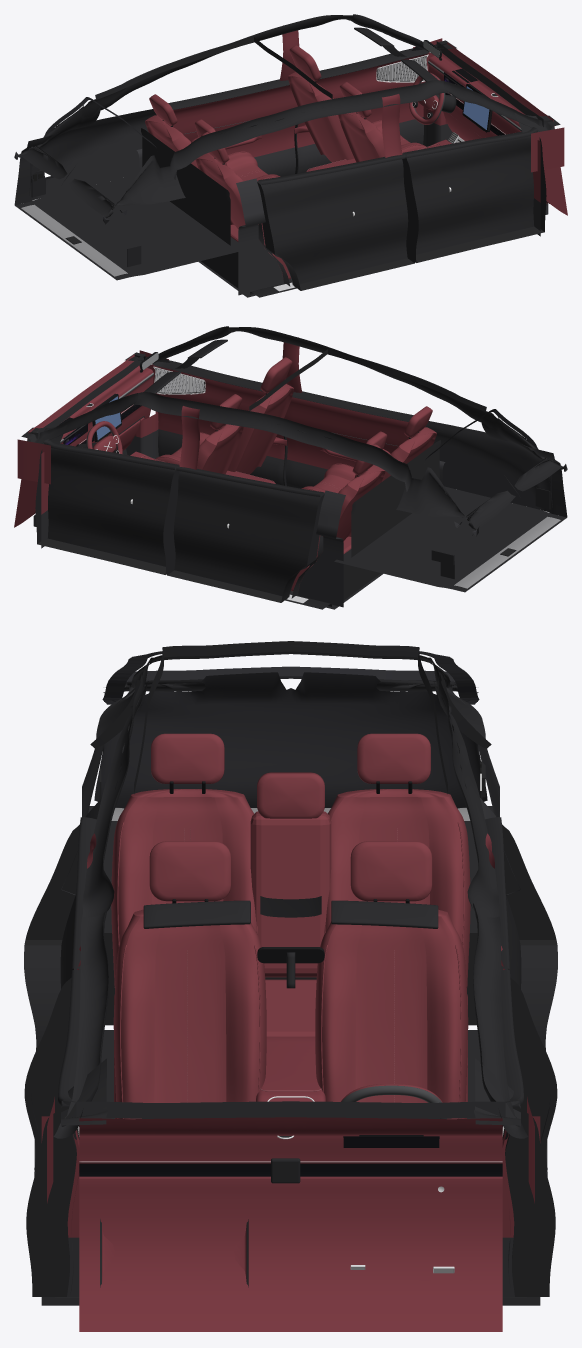
Rendered from xpeng-g9l-interior.glb.
The picture shows the model from 3 angles, top to bottom: view 1: azimuth 30°, elevation 25°; view 2: azimuth 150°, elevation 25°; view 3: azimuth 270°, elevation 25°; orthographic projection. The views are drawn at different scales.
Parts seen in each view (by area): view 1: XpengG9L_Cabin, int_rdoor_R, int_door_R, int_rdoor_L, int_door_L, int_cpillar, int_headliner, int_tailgate, screen_main; view 2: XpengG9L_Cabin, int_rdoor_L, int_door_L, int_rdoor_R, int_door_R, int_cpillar, int_headliner, int_tailgate; view 3: XpengG9L_Cabin, int_tailgate, int_door_L, int_door_R, int_rdoor_L, int_rdoor_R, int_headliner, int_cpillar, int_cpillar_flange.
Boxes of the visible parts, bbox=[...] form: XpengG9L_Cabin: bbox=[14, 14, 567, 297]; int_rdoor_R: bbox=[257, 154, 417, 290]; int_door_R: bbox=[402, 127, 546, 262]; int_rdoor_L: bbox=[165, 79, 297, 176]; int_door_L: bbox=[294, 48, 428, 173]; int_cpillar: bbox=[19, 105, 185, 217]; int_headliner: bbox=[79, 37, 332, 133]; int_tailgate: bbox=[14, 97, 156, 224]; screen_main: bbox=[463, 86, 489, 129]; XpengG9L_Cabin: bbox=[14, 326, 567, 609]; int_rdoor_L: bbox=[164, 466, 324, 602]; int_door_L: bbox=[35, 439, 179, 574]; int_rdoor_R: bbox=[284, 391, 416, 488]; int_door_R: bbox=[153, 360, 287, 485]; int_cpillar: bbox=[396, 417, 562, 529]; int_headliner: bbox=[249, 349, 502, 442]; int_tailgate: bbox=[425, 409, 567, 536]; XpengG9L_Cabin: bbox=[31, 674, 550, 1331]; int_tailgate: bbox=[94, 645, 487, 808]; int_door_L: bbox=[501, 970, 557, 1296]; int_door_R: bbox=[24, 970, 80, 1296]; int_rdoor_L: bbox=[485, 817, 557, 1169]; int_rdoor_R: bbox=[24, 817, 96, 1169]; int_headliner: bbox=[115, 641, 466, 793]; int_cpillar: bbox=[96, 657, 485, 738]; int_cpillar_flange: bbox=[90, 680, 491, 748].
Size of the model in its own units: 3.97 by 1.41 by 1.99.
Materials: 26 (1 with a texture image).
